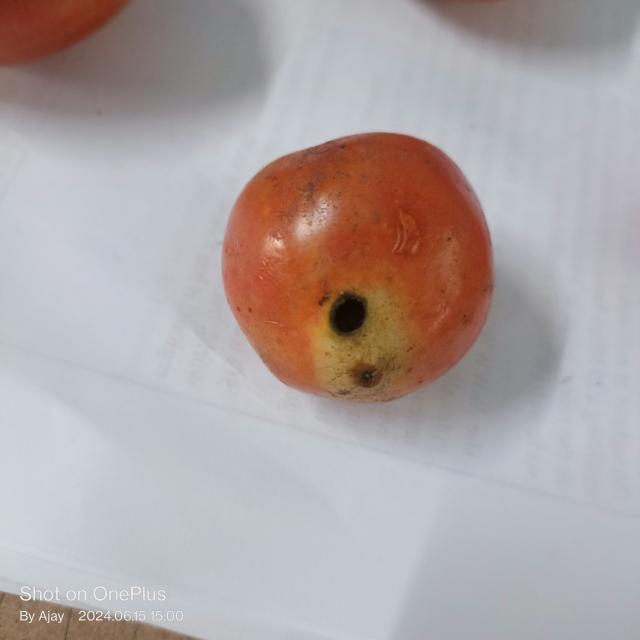fruitworm_bore: (320, 282, 374, 344)
